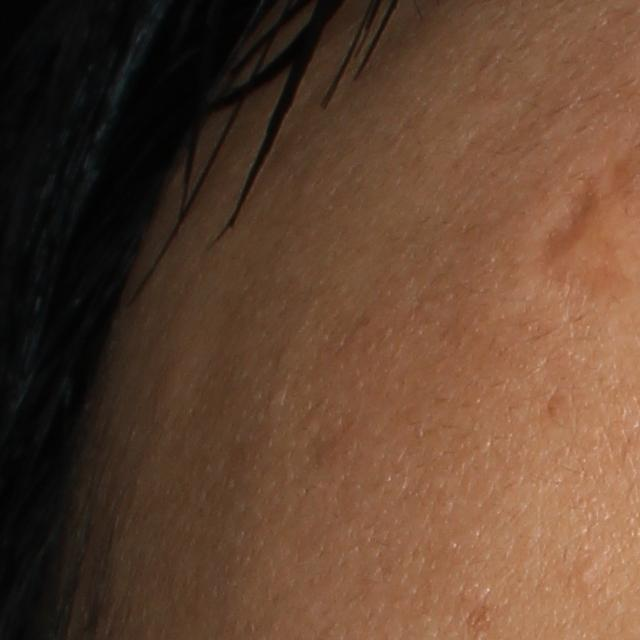atrophic_scar: (535, 177, 607, 279), (562, 242, 631, 311)
comedo: (572, 559, 599, 589)
